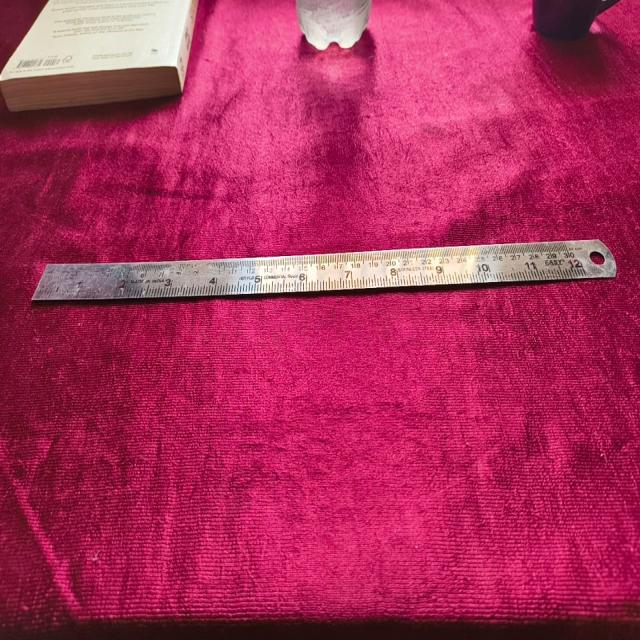Book: (0, 0, 199, 109)
Bottle: (297, 0, 374, 51)
Cup: (528, 0, 627, 43)
scale: (32, 238, 618, 298)
